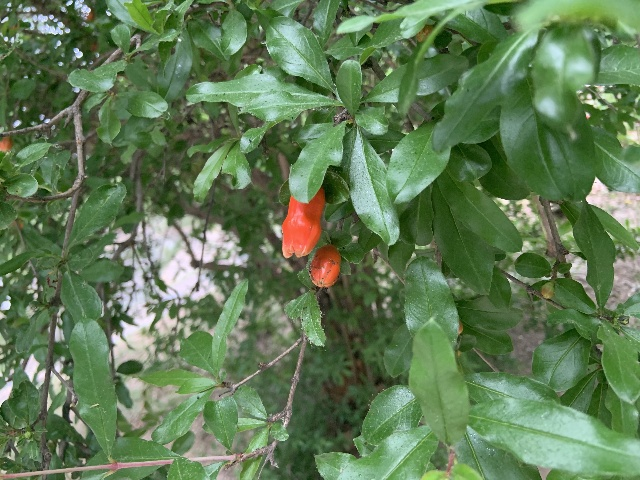bud: (282, 186, 325, 259), (310, 243, 340, 287)
